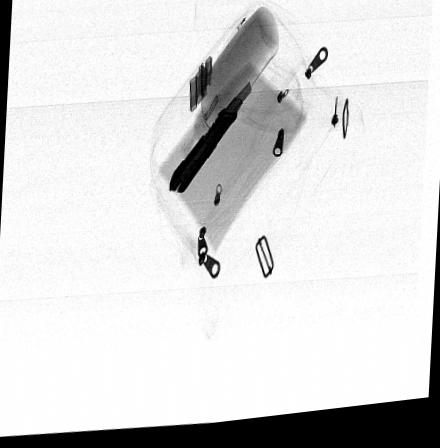Knife: (168, 86, 250, 198)
